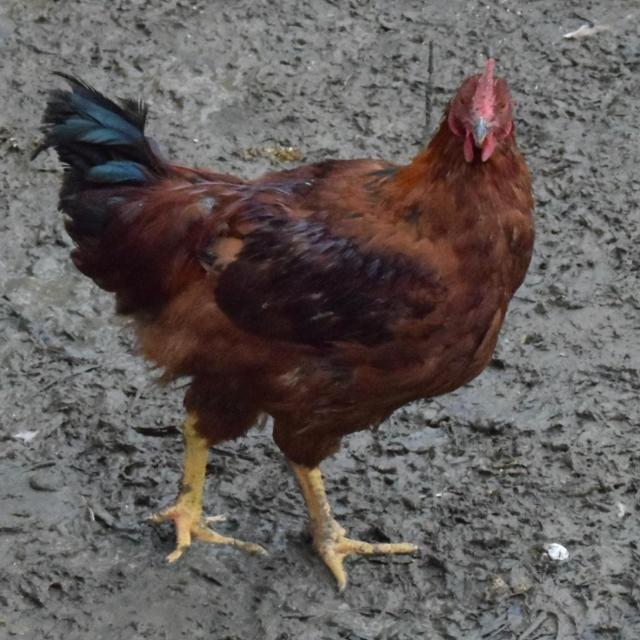cook: (35, 59, 547, 600)
